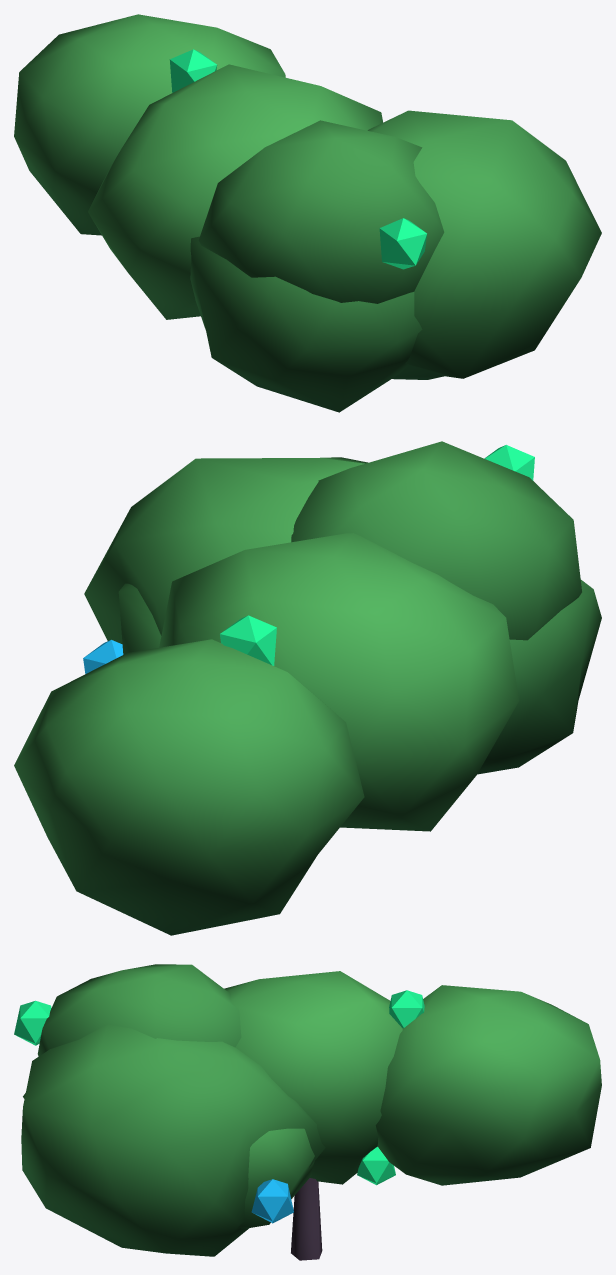
The model's file is SM_PandoraTree_Bush_Round.fbx.
3 renders of one model, top to bottom at view 1: azimuth 30°, elevation 25°; view 2: azimuth 150°, elevation 25°; view 3: azimuth 270°, elevation 25°, orthographic. The views are drawn at different scales.
Parts seen in each view (by area): view 1: SM_PandoraTree_Bush_Round; view 2: SM_PandoraTree_Bush_Round; view 3: SM_PandoraTree_Bush_Round.
Boxes of the visible parts, box(x1,y1,x2,y2) form: SM_PandoraTree_Bush_Round: box(14, 14, 601, 412); SM_PandoraTree_Bush_Round: box(14, 441, 601, 935); SM_PandoraTree_Bush_Round: box(14, 964, 601, 1260).
Size of what is drawn, in the model's own units: 1.87 by 1.35 by 2.8.
